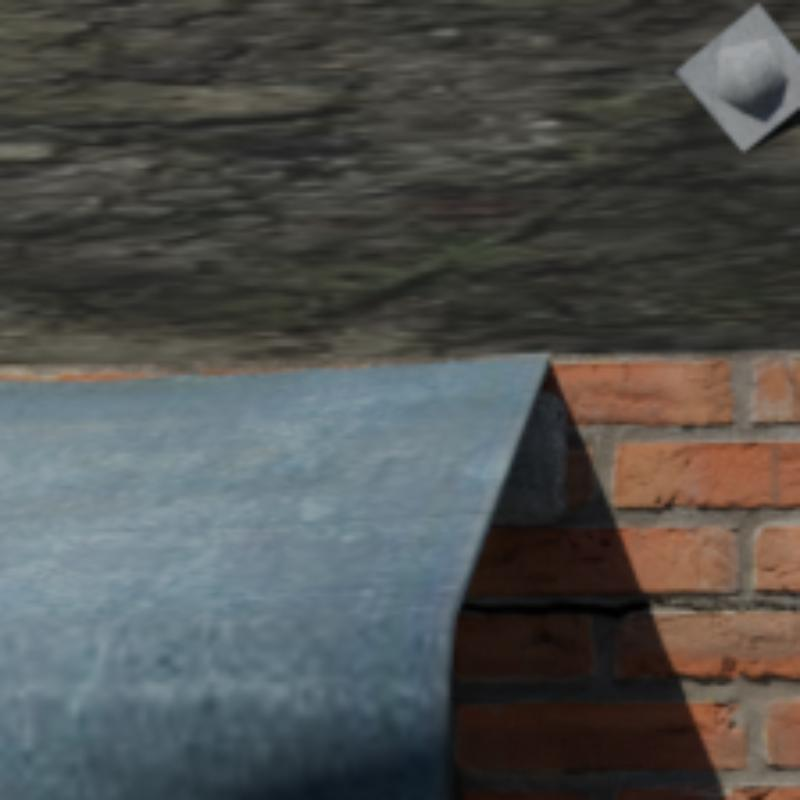pothole: (461, 600, 796, 614)
